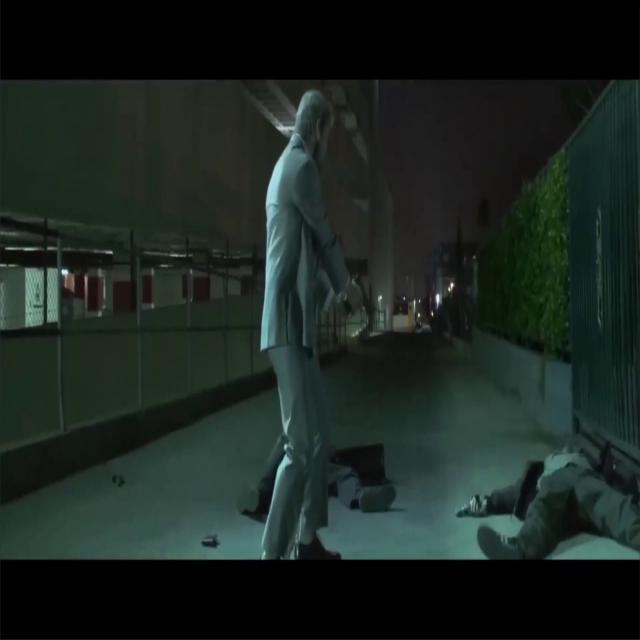gun: (344, 274, 376, 322), (452, 494, 485, 518)
